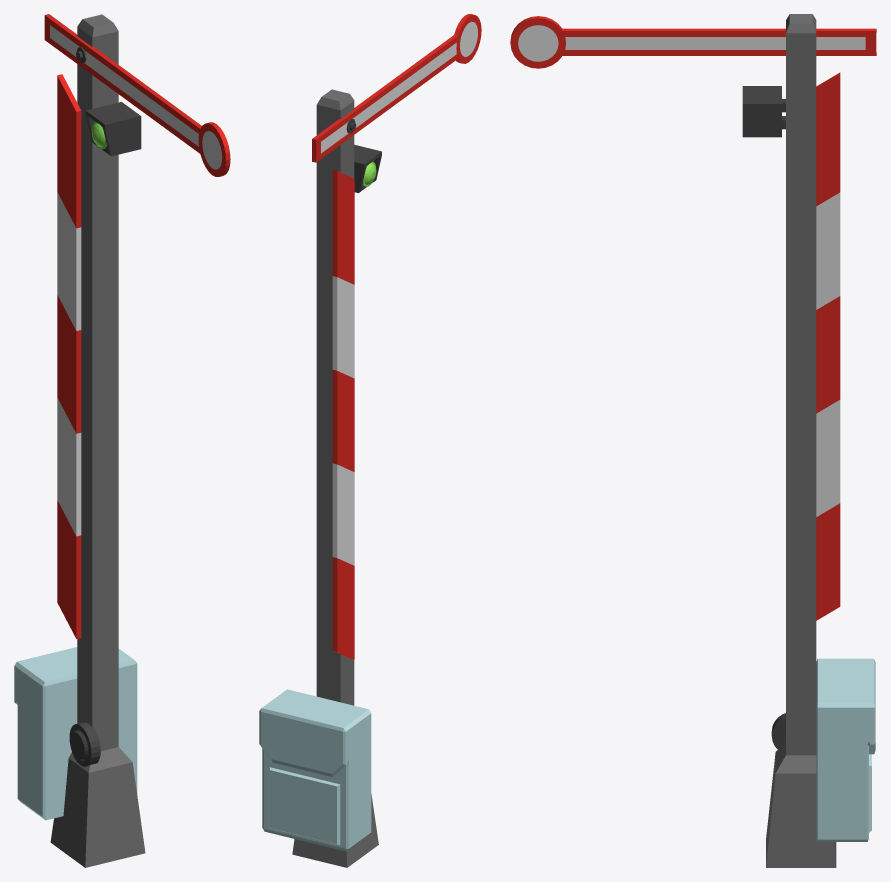
The model's file is railwaySignal.fbx.
The picture shows the model from 3 angles, left to right: view 1: azimuth 30°, elevation 25°; view 2: azimuth 150°, elevation 25°; view 3: azimuth 270°, elevation 25°; orthographic projection. The views are drawn at different scales.
Parts seen in each view (by area): view 1: Railway Signal, Railway Signal Arm; view 2: Railway Signal, Railway Signal Arm; view 3: Railway Signal, Railway Signal Arm.
Part boxes in pixels (<box>): Railway Signal: <box>14,14,145,867</box>; Railway Signal Arm: <box>44,14,230,176</box>; Railway Signal: <box>259,89,381,867</box>; Railway Signal Arm: <box>312,14,481,162</box>; Railway Signal: <box>742,14,875,867</box>; Railway Signal Arm: <box>510,16,876,68</box>.
Size of the model in its own units: 75.33 by 250 by 628.
